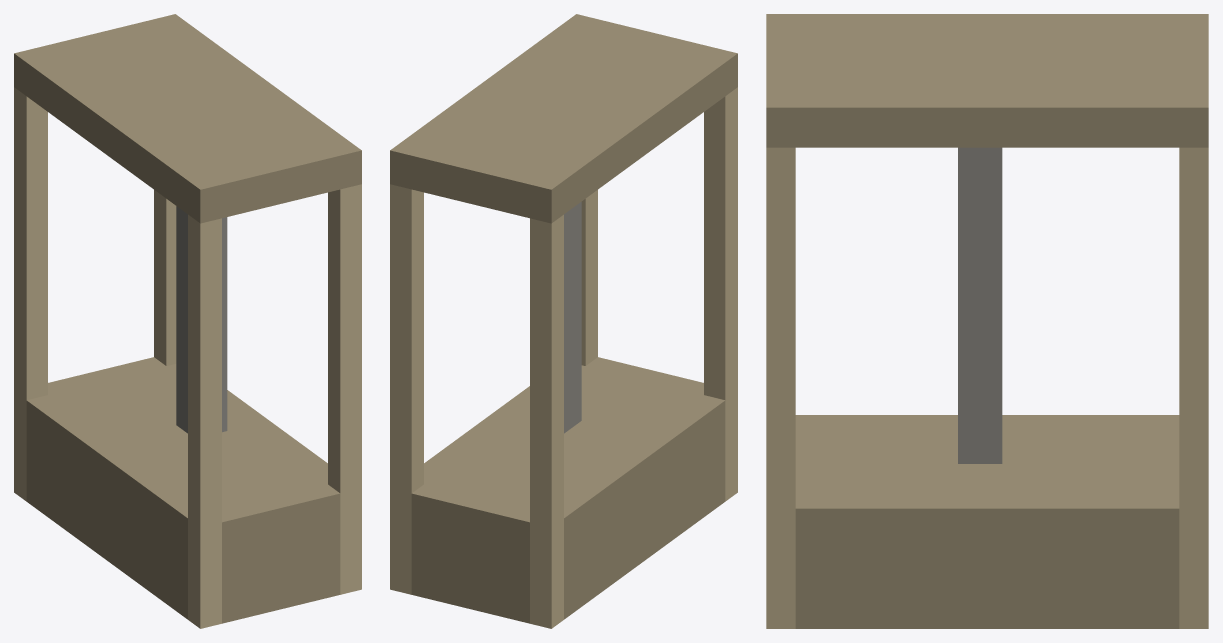
File: prensa_vino_arce_01.glb
3 views of the same model, side by side, from view 1: azimuth 30°, elevation 25°; view 2: azimuth 150°, elevation 25°; view 3: azimuth 270°, elevation 25° (orthographic). The views are drawn at different scales.
Visible parts, largest first — view 1: prensa_vino_arce; view 2: prensa_vino_arce; view 3: prensa_vino_arce.
Boxes of the visible parts, left/top/right/bottom form: prensa_vino_arce: left=14, top=14, right=361, bottom=628; prensa_vino_arce: left=390, top=14, right=737, bottom=628; prensa_vino_arce: left=766, top=14, right=1208, bottom=628.
Bounding box in the file's own units: 1 × 2.6 × 2.
